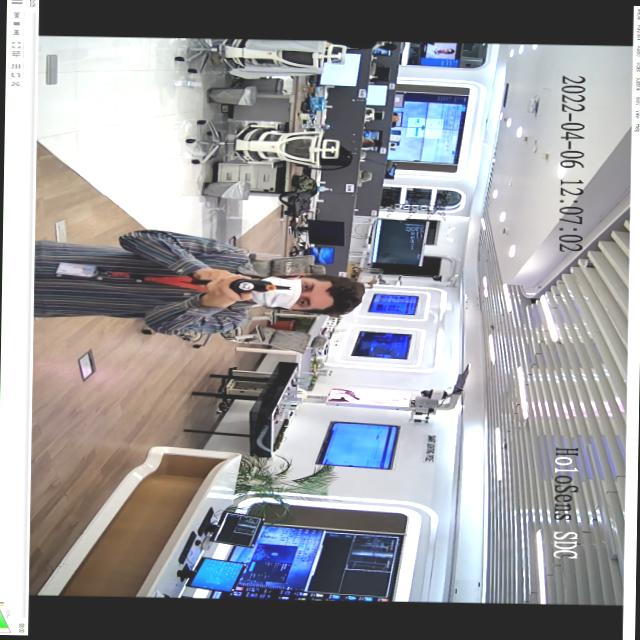long weapon: (220, 274, 296, 298)
